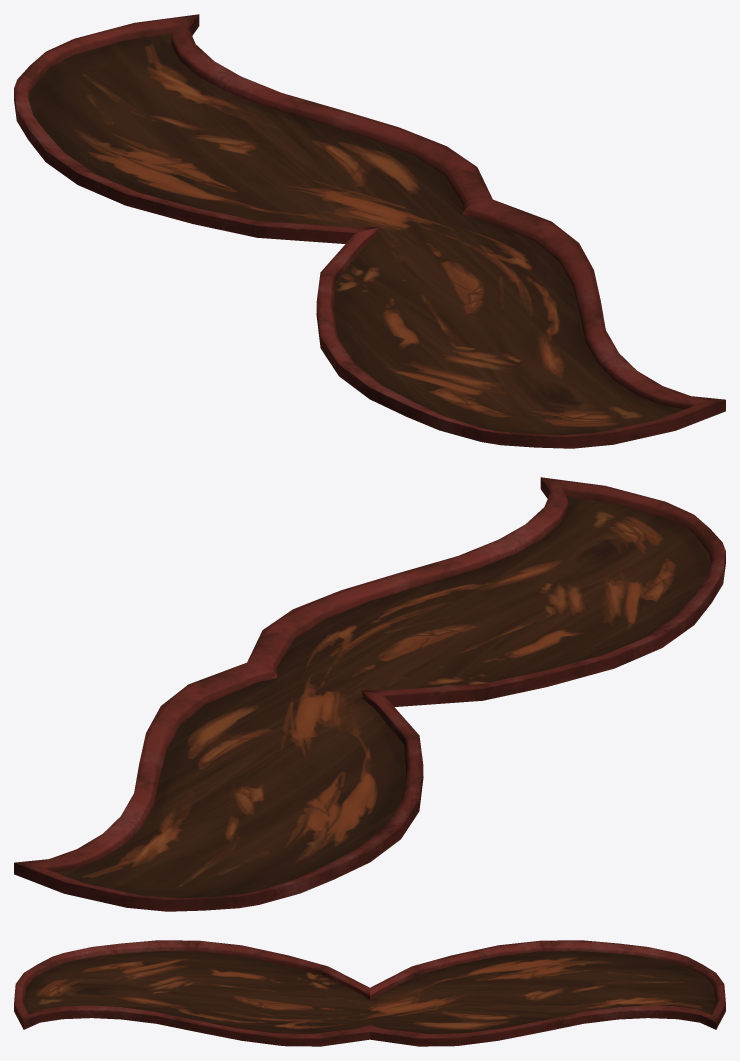
Rendered from MoustacheProp.fbx.
3 views of the same model, one above another, from view 1: azimuth 30°, elevation 25°; view 2: azimuth 150°, elevation 25°; view 3: azimuth 270°, elevation 25° (orthographic). The views are drawn at different scales.
Parts seen in each view (by area): view 1: MoustacheProp; view 2: MoustacheProp; view 3: MoustacheProp.
Part boxes in pixels (left/top/right/bottom): MoustacheProp: left=14, top=14, right=725, bottom=448; MoustacheProp: left=14, top=477, right=725, bottom=911; MoustacheProp: left=14, top=940, right=725, bottom=1046.
Size of the model in its own units: 26.49 by 0.9745 by 80.94.
